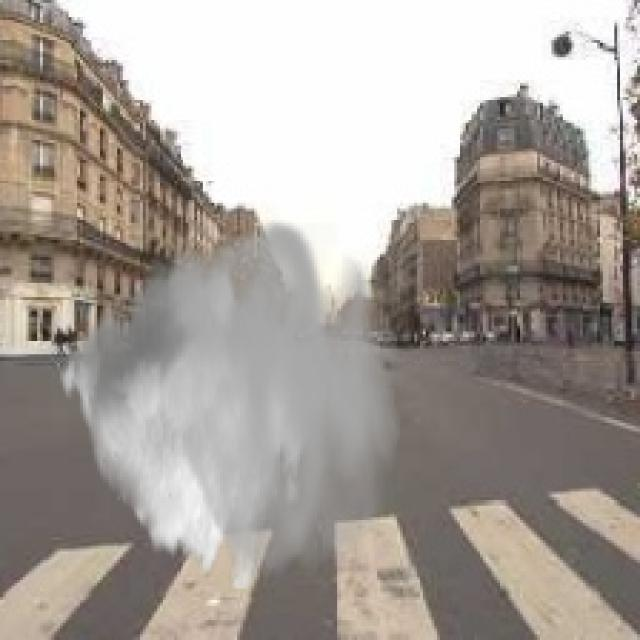smoke: (57, 214, 400, 589)
